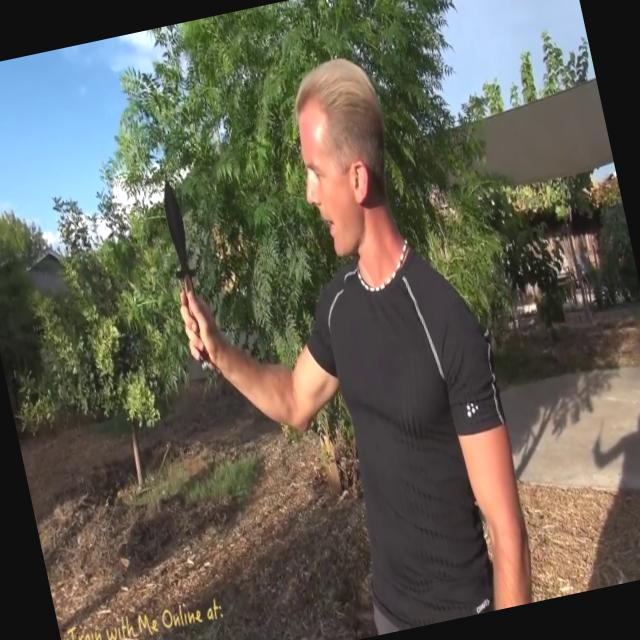knife: (153, 168, 218, 386)
